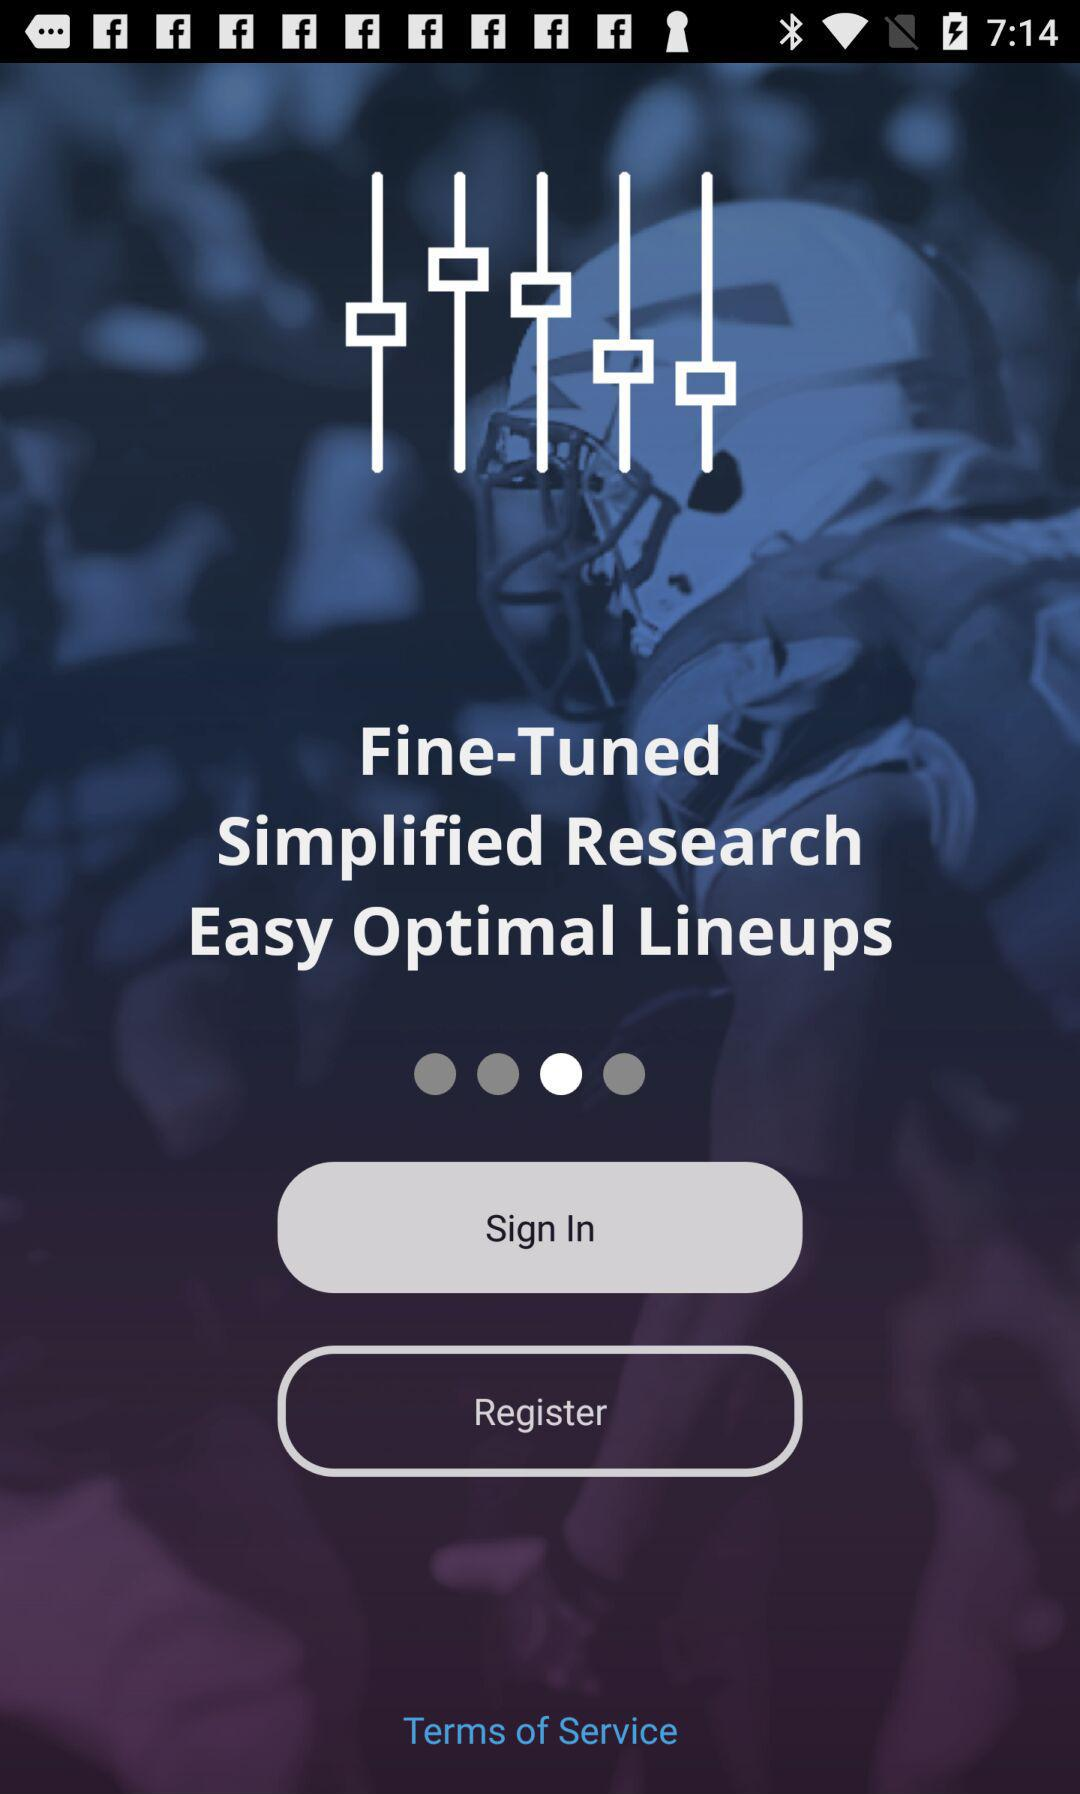BackgroundImage: (1, 64, 1080, 1794)
Image: (345, 170, 737, 473)
PageIndicator: (413, 1051, 647, 1099)
Text: (190, 724, 896, 975), (404, 1715, 680, 1748)
TextButton: (277, 1161, 805, 1296), (277, 1345, 805, 1479)
UpperTaskBar: (1, 1, 1080, 64)
